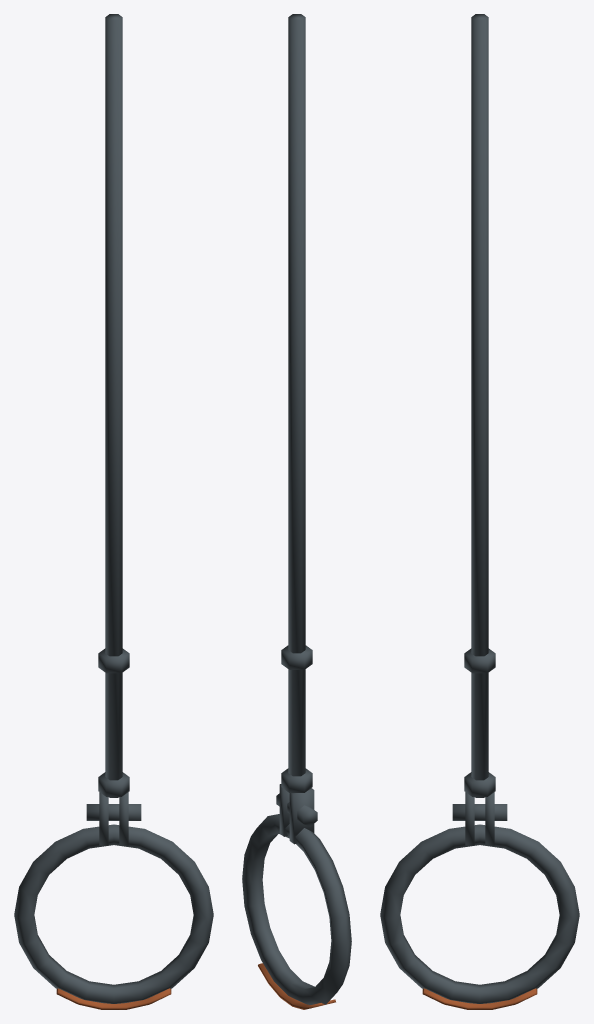
Rendered from pipe_hanger.glb.
3 views of the same model, side by side, from view 1: azimuth 90°, elevation 25°; view 2: azimuth 210°, elevation 25°; view 3: azimuth 270°, elevation 25° (orthographic).
Parts seen in each view (by area): view 1: Hanger; view 2: Hanger; view 3: Hanger.
Boxes of the visible parts, x1,y1,x2,y2 form: Hanger: (14,14,213,1009); Hanger: (242,14,351,1009); Hanger: (380,14,579,1009).
Size of the model in its own units: 0.0346 by 1.4 by 0.256.
